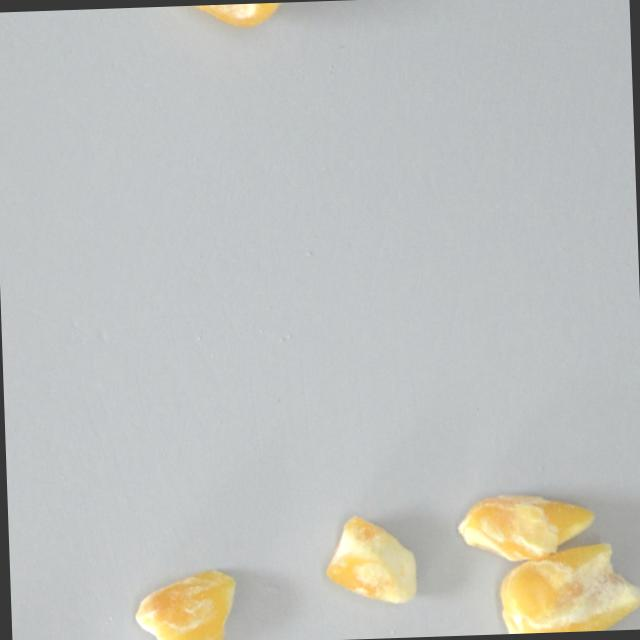pelicula: (509, 524, 617, 633), (485, 458, 564, 597), (334, 509, 420, 612), (127, 558, 233, 640)
